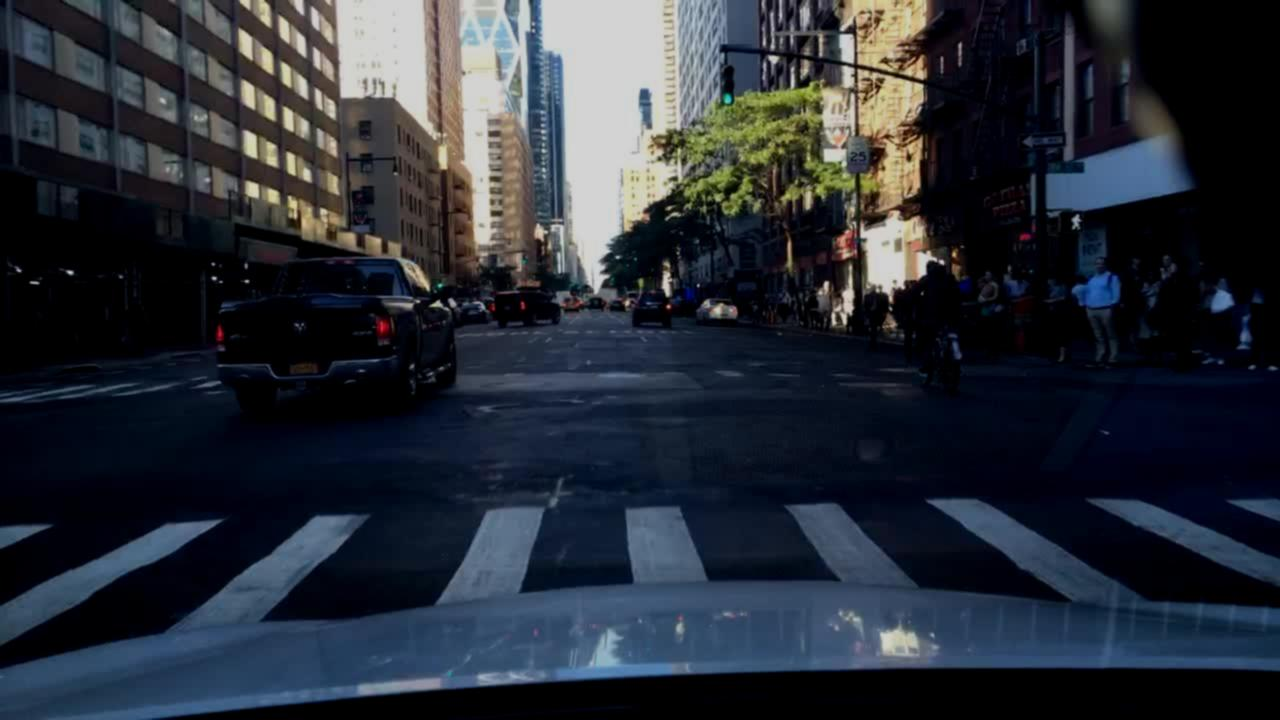ram: (288, 316, 316, 340)
